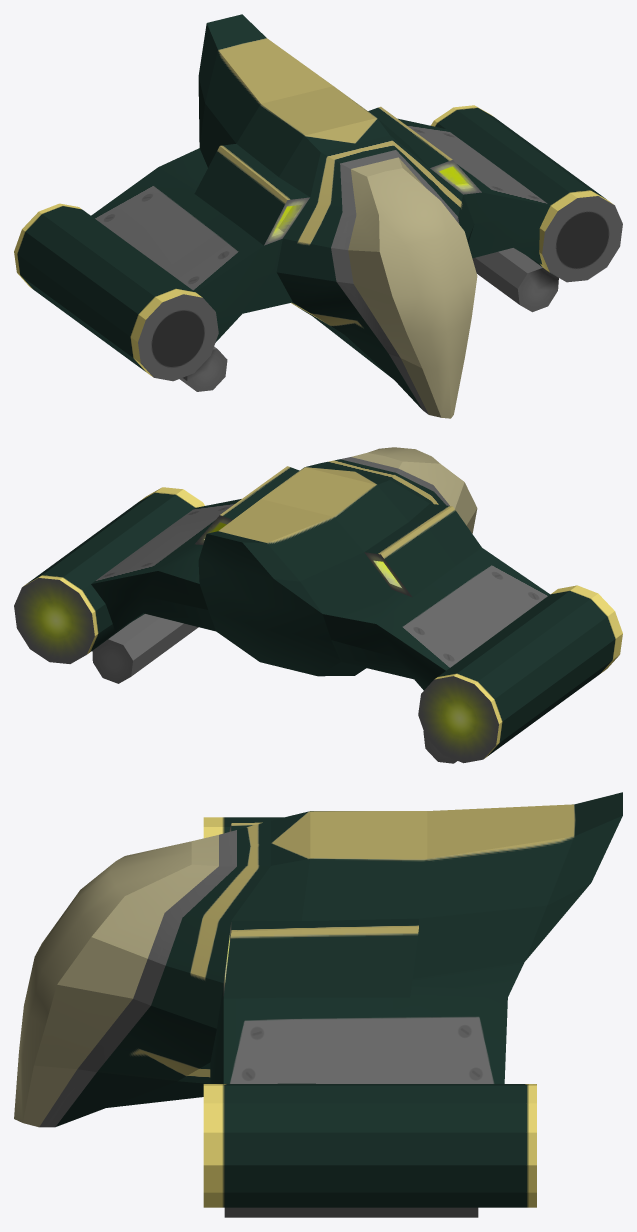
File: Boss_Minigun_Tough.fbx
3 renders of one model, top to bottom at view 1: azimuth 30°, elevation 25°; view 2: azimuth 150°, elevation 25°; view 3: azimuth 270°, elevation 25°, orthographic. The views are drawn at different scales.
Parts seen in each view (by area): view 1: Boss_Minigun:Boss_Minigun1; view 2: Boss_Minigun:Boss_Minigun1; view 3: Boss_Minigun:Boss_Minigun1.
Part boxes in pixels (x1,y1,x2,y2): Boss_Minigun:Boss_Minigun1: (14,14,622,418); Boss_Minigun:Boss_Minigun1: (14,447,622,763); Boss_Minigun:Boss_Minigun1: (14,792,622,1217).
Bounding box in the file's own units: 589 × 272 × 476.
